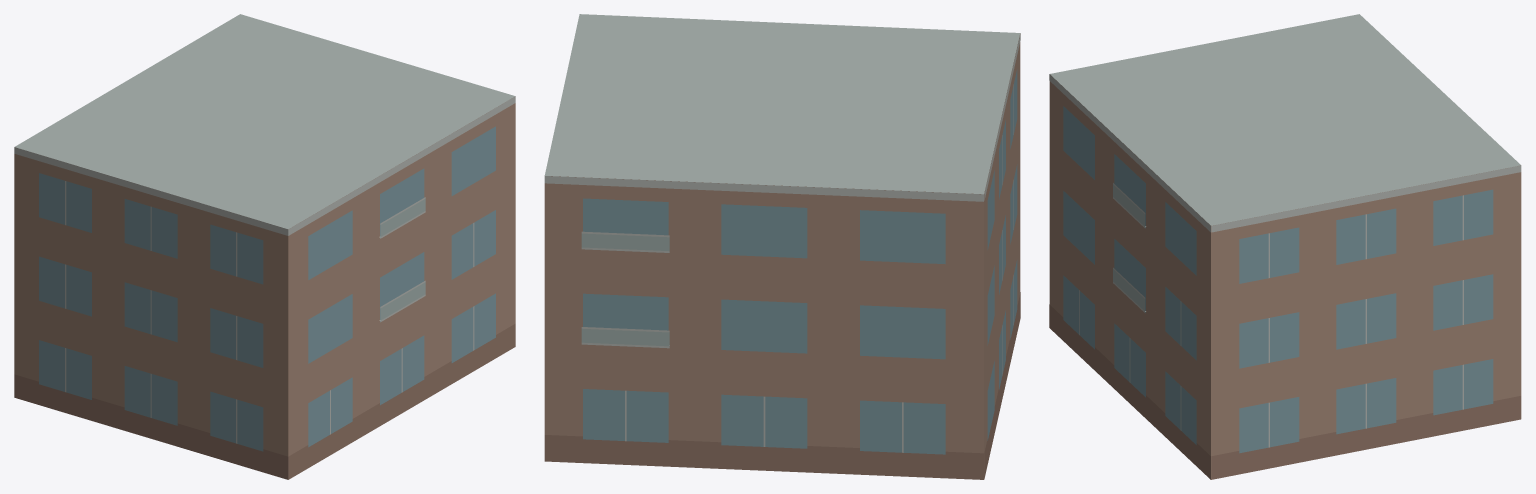
Rendered from survey-upis-32716643.glb.
The picture shows the model from 3 angles, left to right: view 1: azimuth 30°, elevation 25°; view 2: azimuth 150°, elevation 25°; view 3: azimuth 270°, elevation 25°; orthographic projection. The views are drawn at different scales.
Parts seen in each view (by area): view 1: survey-upis-32716643.tmp; view 2: survey-upis-32716643.tmp; view 3: survey-upis-32716643.tmp.
Boxes of the visible parts, x1,y1,x2,y2 form: survey-upis-32716643.tmp: (14, 14, 515, 479); survey-upis-32716643.tmp: (544, 14, 1020, 479); survey-upis-32716643.tmp: (1049, 14, 1521, 479).
Bounding box in the file's own units: 16.37 × 9.15 × 15.41.
